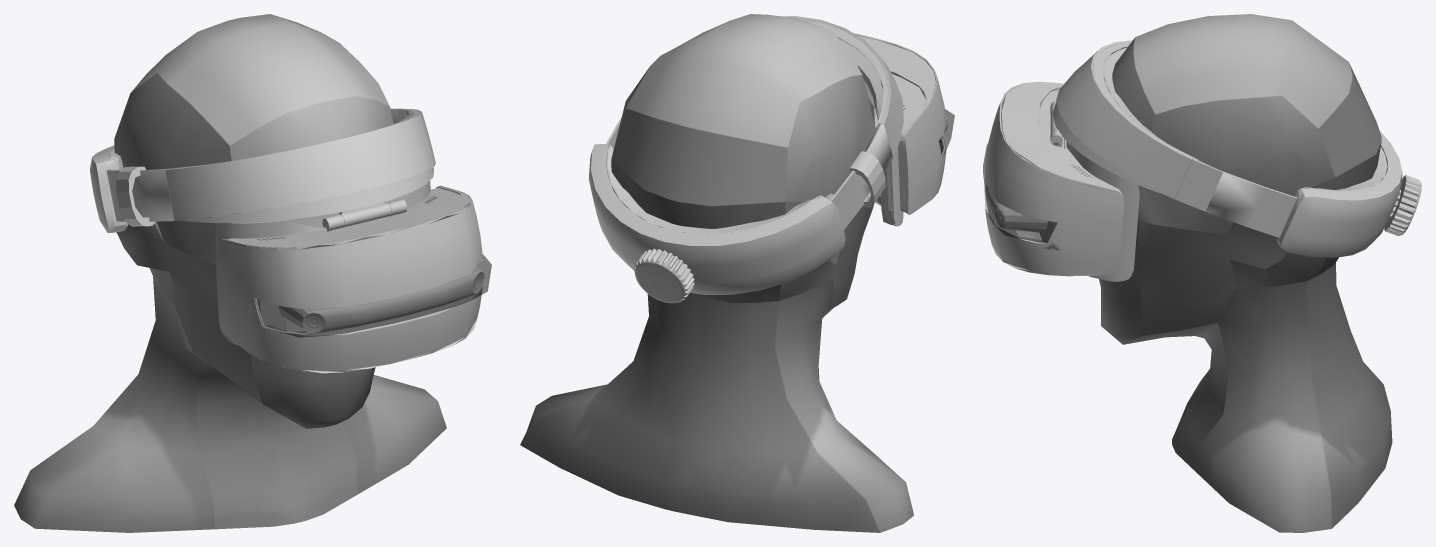
Rendered from Avatar_MR.fbx.
The picture shows the model from 3 angles, left to right: view 1: azimuth 30°, elevation 25°; view 2: azimuth 150°, elevation 25°; view 3: azimuth 270°, elevation 25°; orthographic projection. The views are drawn at different scales.
Parts seen in each view (by area): view 1: avatar, HP Reality Headset, Visor; view 2: avatar, HP Reality Headset; view 3: avatar, HP Reality Headset, Visor.
Boxes of the visible parts, x1,y1,x2,y2 form: avatar: (14,14,446,532); HP Reality Headset: (90,108,484,373); Visor: (254,254,491,337); avatar: (520,14,913,532); HP Reality Headset: (588,16,947,303); avatar: (1099,14,1392,532); HP Reality Headset: (984,40,1421,281); Visor: (983,144,1057,243).
Size of the model in its own units: 0.323 by 0.3439 by 0.3292.
